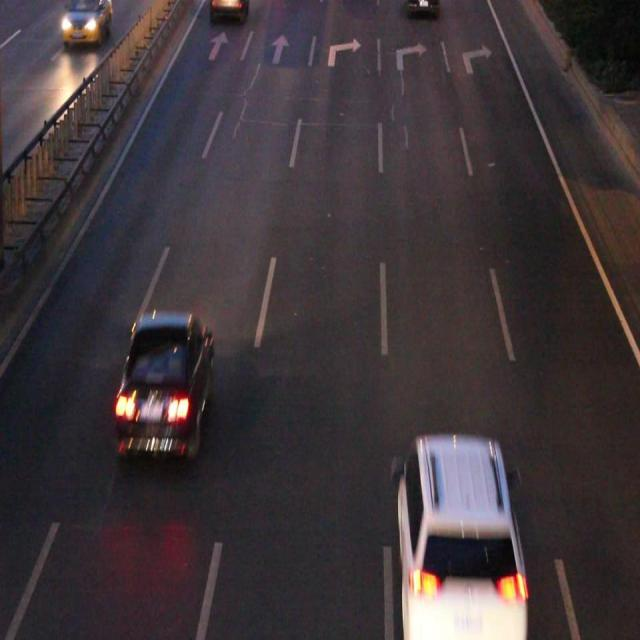car: (396, 439, 524, 628), (120, 315, 212, 455)
